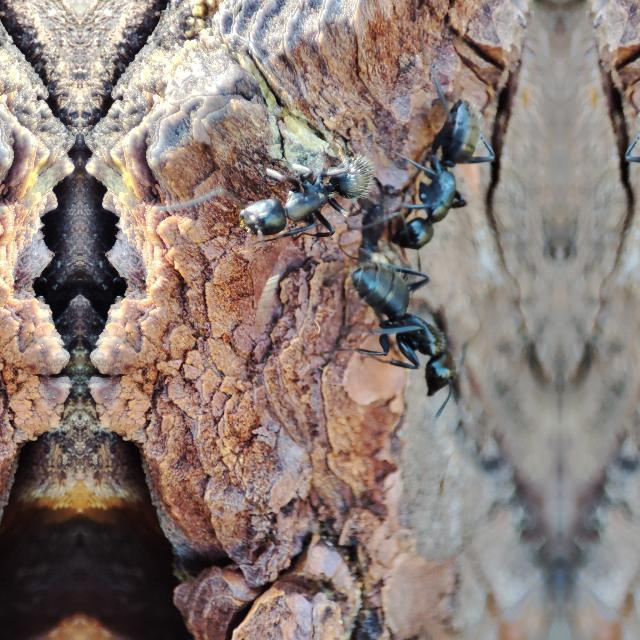Camponotus: (327, 256, 498, 427), (376, 93, 484, 253), (243, 150, 375, 240)
